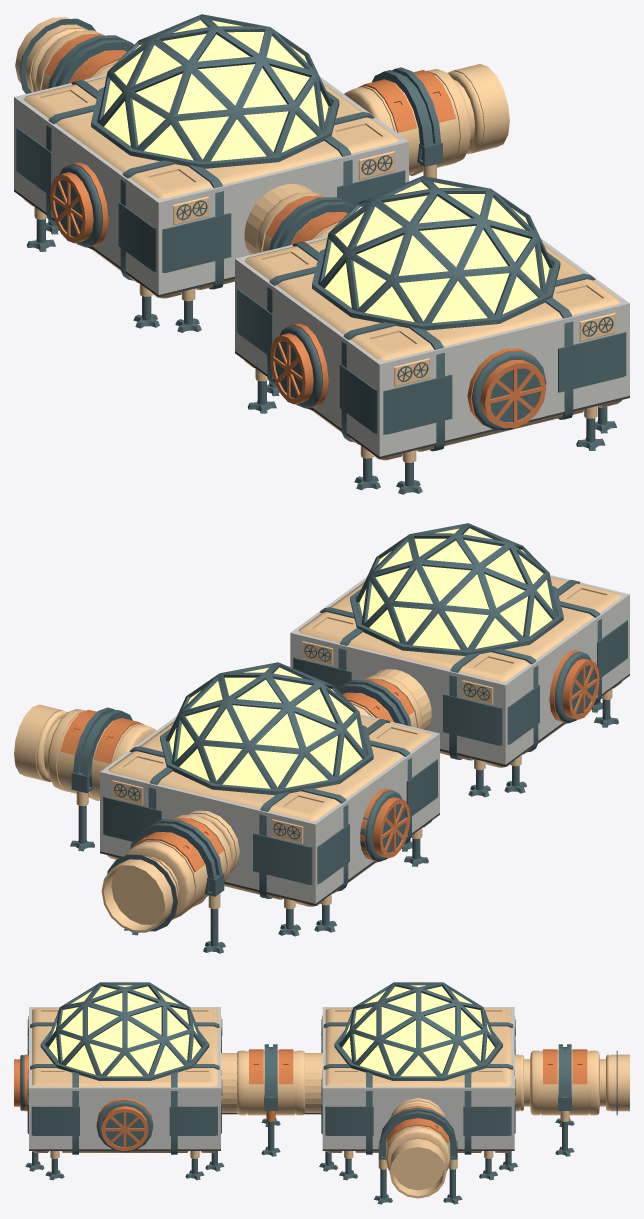
Rendered from colony_twin_dome.fbx.
The picture shows the model from 3 angles, top to bottom: view 1: azimuth 30°, elevation 25°; view 2: azimuth 150°, elevation 25°; view 3: azimuth 270°, elevation 25°; orthographic projection. The views are drawn at different scales.
Parts seen in each view (by area): view 1: TwinDome.H1.Icosphere, TwinDome.H2.Icosphere.002, TwinDome.H1.Liner, TwinDome.H2.Liner, TwinDome.H1.Cube.001, TwinDome.H2.Cube.022, TwinDome.H1.Cube.017, TwinDome.H2.Cube.023, TwinDome.S_H2_X.Cylinder.023, TwinDome.hubdoor2.Cylinder.008, TwinDome.hubdoor1.Cylinder.008, TwinDome.hubdoor3.Cylinder.008 (+16 smaller); view 2: TwinDome.H2.Liner, TwinDome.H1.Liner, TwinDome.H2.Icosphere.002, TwinDome.H1.Icosphere, TwinDome.H2.Cube.022, TwinDome.H1.Cube.001, TwinDome.S_H2_Y.Cylinder.040, TwinDome.H2.Cube.023, TwinDome.H1.Cube.017, TwinDome.S_H2_X.Cylinder.023, TwinDome.hubdoor1.Cylinder.008, TwinDome.hubdoor3.Cylinder.008 (+17 smaller); view 3: TwinDome.H1.Liner, TwinDome.H2.Liner, TwinDome.H2.Icosphere.002, TwinDome.H1.Icosphere, TwinDome.H1.Cube.001, TwinDome.H2.Cube.022, TwinDome.S_H2_Y.Cylinder.040, TwinDome.S_H2_X.Cylinder.023, TwinDome.H2.Cube.023, TwinDome.H1.Cube.017, TwinDome.T_H1_H2.Cylinder.011, TwinDome.hubdoor0.Cylinder.008 (+17 smaller).
Part boxes in pixels (x1,y1,x2,y2): TwinDome.H1.Icosphere: [319, 176, 553, 323]; TwinDome.H2.Icosphere.002: [99, 16, 332, 161]; TwinDome.H1.Liner: [235, 176, 629, 458]; TwinDome.H2.Liner: [14, 14, 408, 297]; TwinDome.H1.Cube.001: [244, 238, 621, 494]; TwinDome.H2.Cube.022: [23, 77, 399, 332]; TwinDome.H1.Cube.017: [237, 288, 626, 434]; TwinDome.H2.Cube.023: [16, 126, 405, 272]; TwinDome.S_H2_X.Cylinder.023: [344, 64, 509, 175]; TwinDome.hubdoor2.Cylinder.008: [467, 348, 546, 430]; TwinDome.hubdoor1.Cylinder.008: [270, 323, 328, 408]; TwinDome.hubdoor3.Cylinder.008: [50, 162, 108, 247]; TwinDome.H2.Liner: [100, 662, 439, 905]; TwinDome.H1.Liner: [290, 524, 629, 766]; TwinDome.H2.Icosphere.002: [166, 662, 367, 788]; TwinDome.H1.Icosphere: [356, 523, 557, 649]; TwinDome.H2.Cube.022: [107, 716, 431, 936]; TwinDome.H1.Cube.001: [298, 577, 621, 797]; TwinDome.S_H2_Y.Cylinder.040: [101, 810, 239, 932]; TwinDome.H2.Cube.023: [103, 759, 437, 884]; TwinDome.H1.Cube.017: [293, 620, 627, 745]; TwinDome.S_H2_X.Cylinder.023: [14, 704, 156, 800]; TwinDome.hubdoor1.Cylinder.008: [549, 650, 599, 723]; TwinDome.hubdoor3.Cylinder.008: [360, 788, 410, 861]; TwinDome.H1.Liner: [29, 982, 220, 1150]; TwinDome.H2.Liner: [322, 982, 514, 1150]; TwinDome.H2.Icosphere.002: [339, 982, 496, 1076]; TwinDome.H1.Icosphere: [45, 982, 202, 1076]; TwinDome.H1.Cube.001: [25, 1008, 224, 1180]; TwinDome.H2.Cube.022: [319, 1008, 517, 1180]; TwinDome.S_H2_Y.Cylinder.040: [514, 1050, 629, 1115]; TwinDome.S_H2_X.Cylinder.023: [386, 1098, 450, 1198]; TwinDome.H2.Cube.023: [321, 1035, 515, 1135]; TwinDome.H1.Cube.017: [27, 1036, 221, 1135]; TwinDome.T_H1_H2.Cylinder.011: [237, 1050, 305, 1115]; TwinDome.hubdoor0.Cylinder.008: [96, 1098, 153, 1151].
Bounding box in the file's own units: 2816 × 1455 × 5367.
